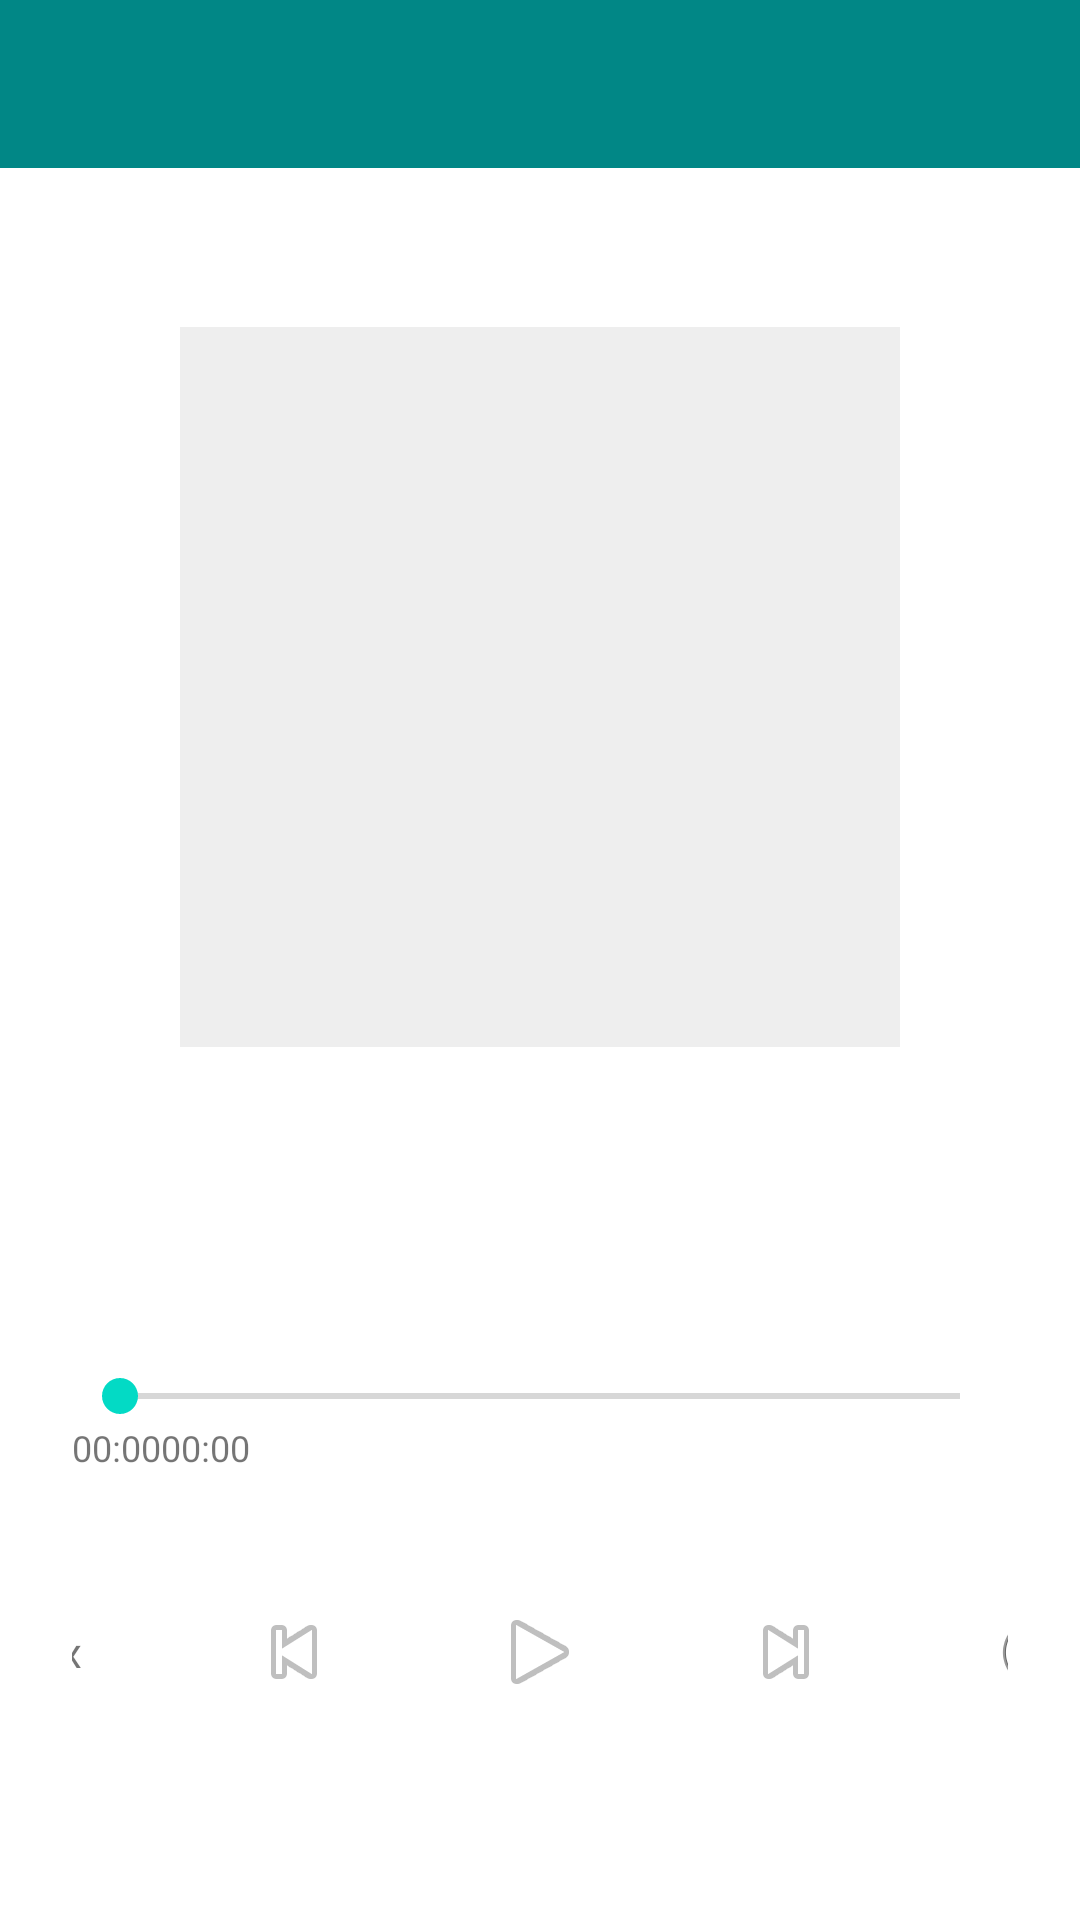

Icon click points for this 1080px x 1920px phone screenshot, format (x,y):
上一集: (294,1652)
下一集: (786,1652)
播放/暂停: (540,1652)
